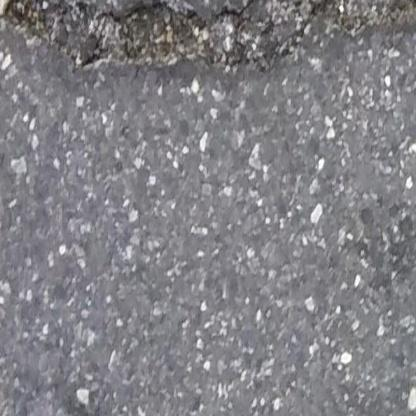Cracks: (0, 0, 416, 70)
